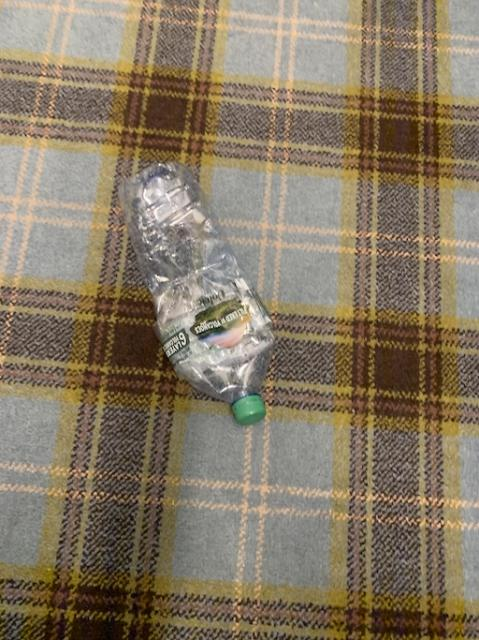plastic: (119, 161, 273, 423)
